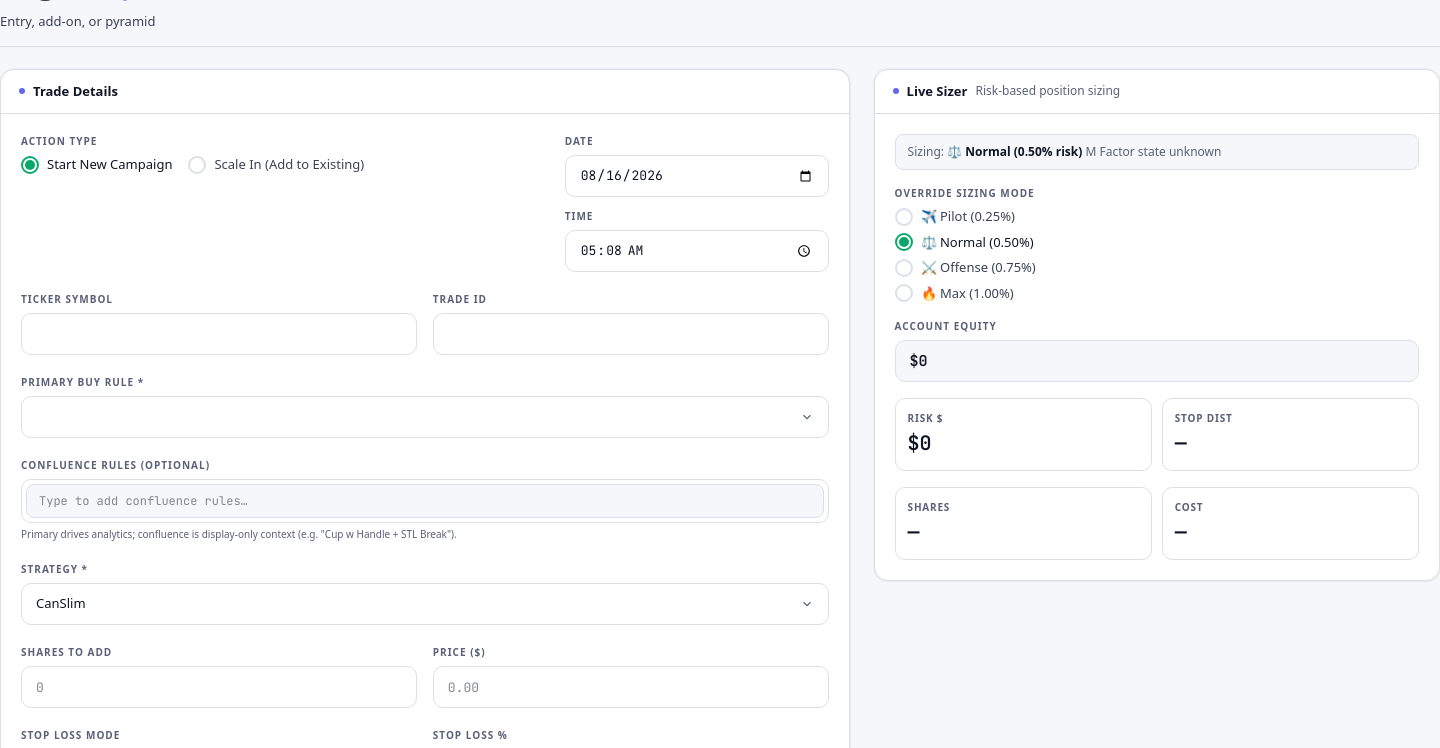
Test: LogBuy — options stop-loss visibility › option ticker hides stop-loss block and shows reveal link
Expected: the element with test id "logbuy-sizing-mode-indicator" is shown, [895,134,1419,170]
Type "AMZN 260619 $235C" into the field below "Ticker Symbol".
click(219, 334); type("AMZN 260619 $235C")  # box [21,313,417,355]
(page scrolled)
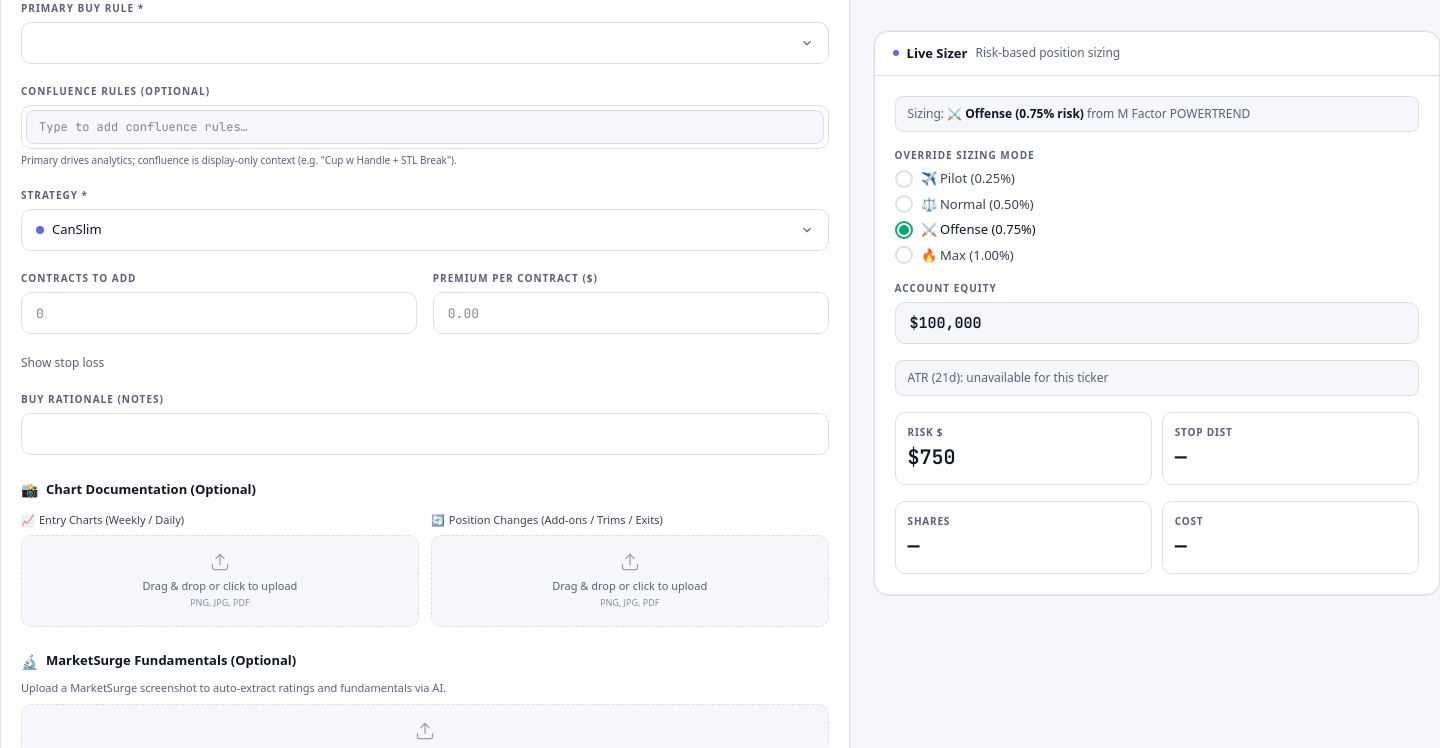
Expected: the text "Stop Loss Mode" is gone
Expected: the button "Show stop loss" is shown, [21,354,104,372]
